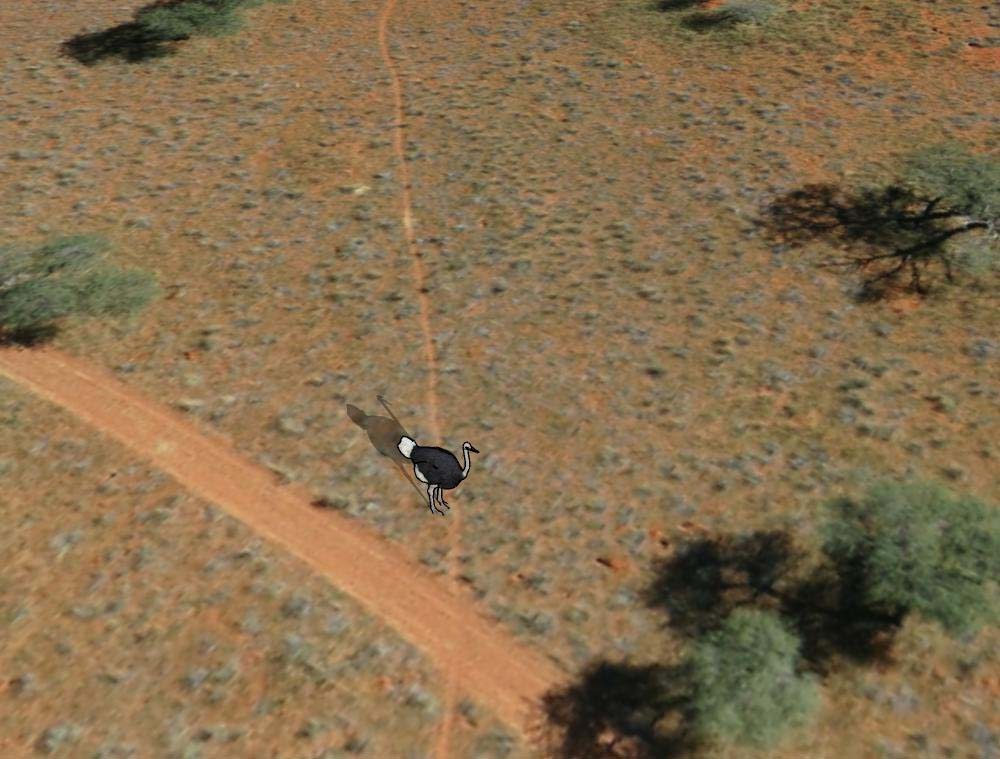ostrich: (395, 420, 486, 525)
